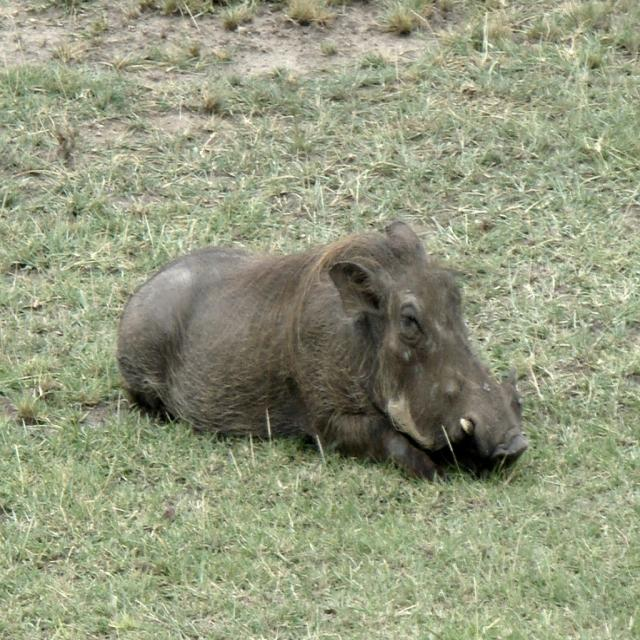Pig: (114, 221, 529, 482)
